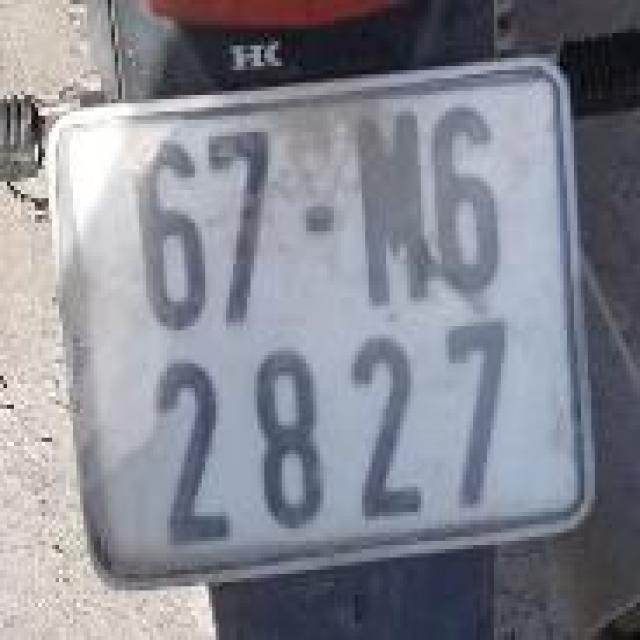2: (142, 351, 244, 549), (341, 330, 431, 520)
6: (120, 122, 217, 336), (424, 89, 515, 303)
7: (202, 126, 282, 320), (442, 312, 522, 506)
8: (244, 338, 330, 528)
M: (339, 93, 444, 316)
